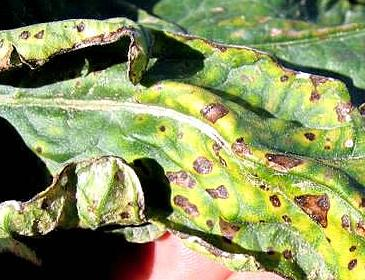Tomato Septoria leaf spot: (1, 0, 365, 280)
